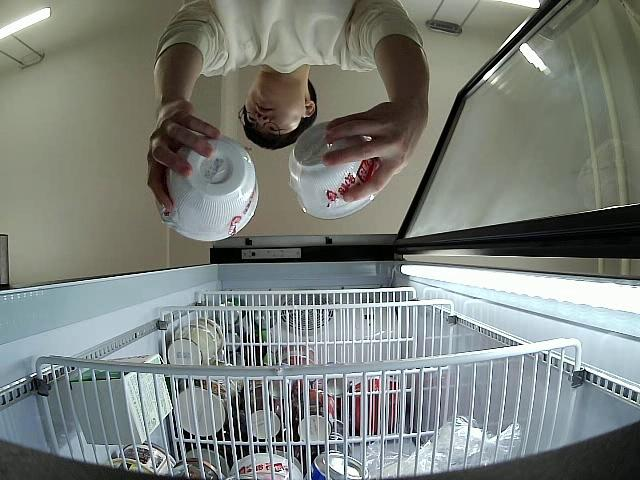00_hand: (323, 101, 428, 199), (145, 101, 221, 213)
09_yukGaeJang: (159, 139, 259, 241), (287, 118, 381, 221)
